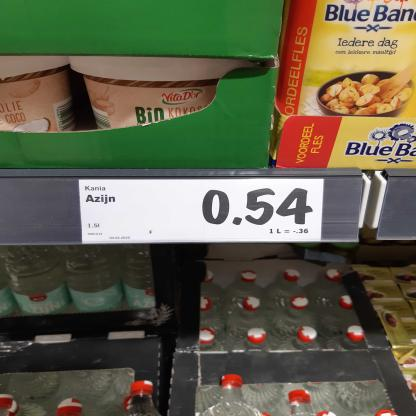prtg: (79, 179, 324, 244)
